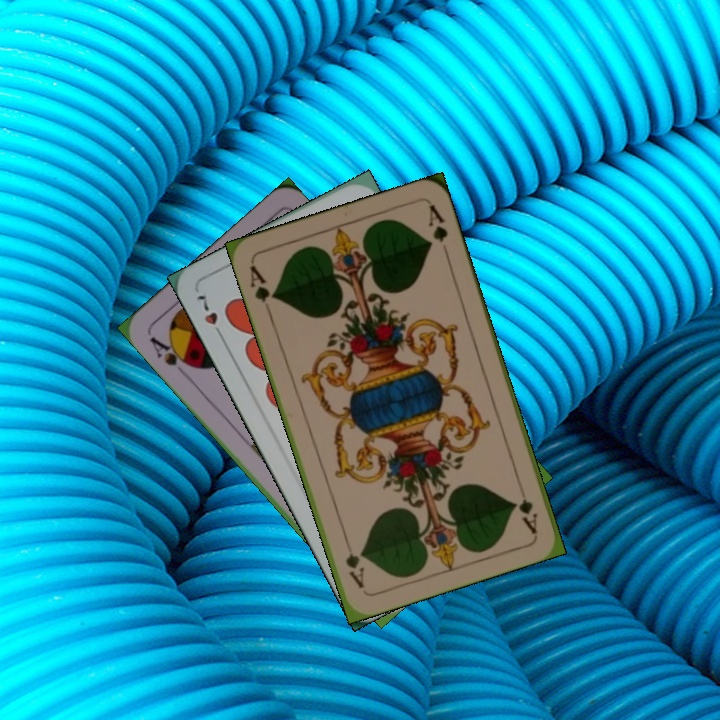GA: (245, 261, 279, 317), (512, 478, 541, 536)
H7: (192, 291, 228, 343)
SA: (146, 332, 197, 371)
